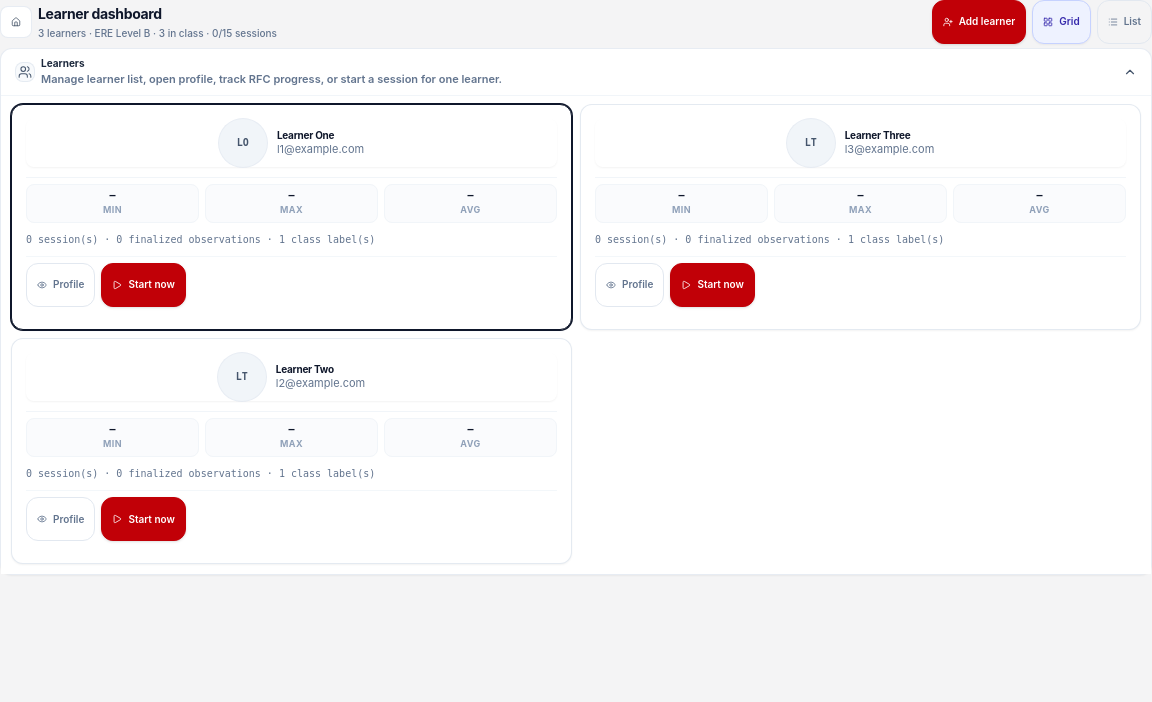
Test: TeacherOverviewPage - Add Learner › closes New Learner panel when Cancel is clicked
This screenshot has width=1152, height=702.
Click the button "Add learner".
click(979, 22)  # box [932,0,1026,44]
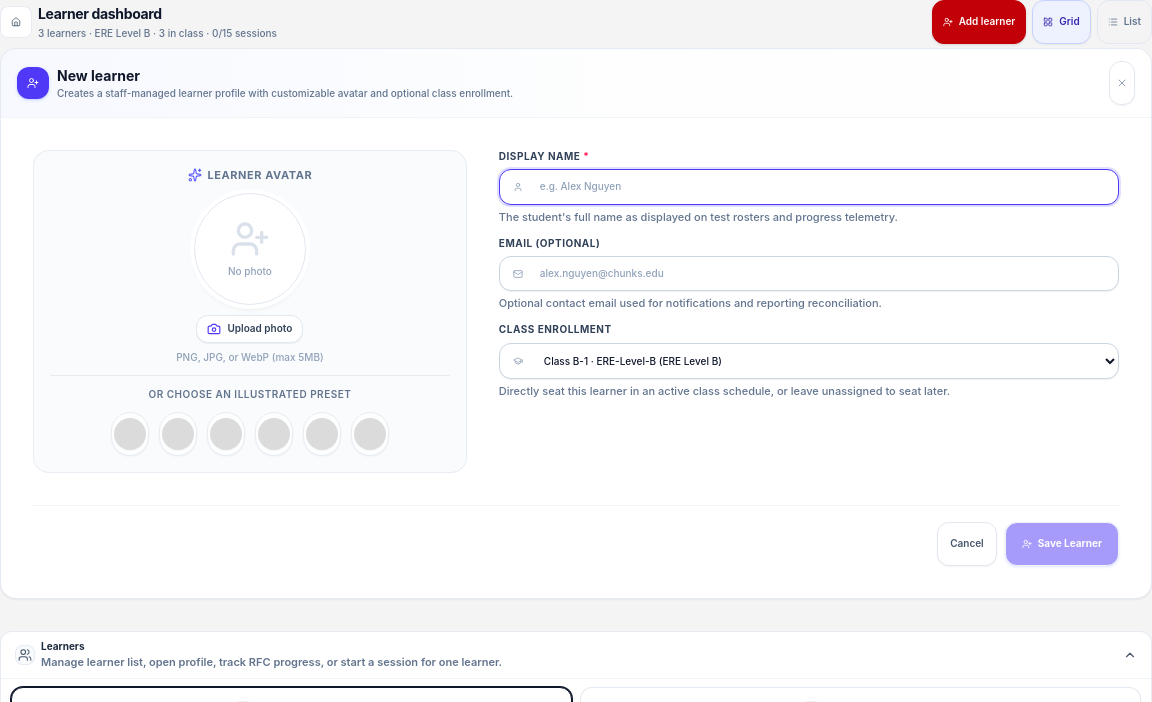
Now the heading "New learner" is shown, box [57,68,140,84]
Click the button "Cancel".
click(967, 544)  # box [937,522,997,566]
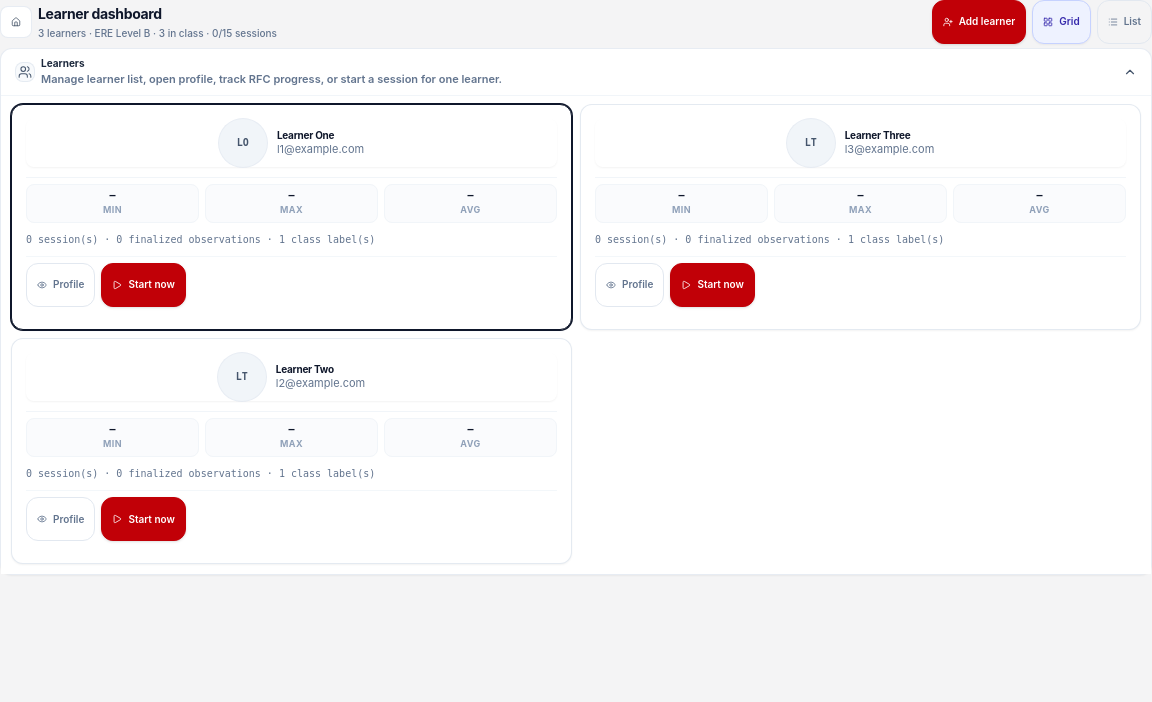
Now the heading "New learner" is gone
